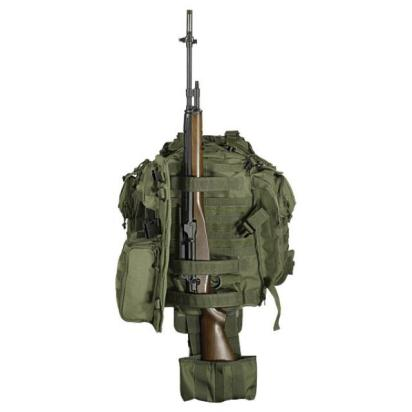Gun: (180, 0, 231, 364)
